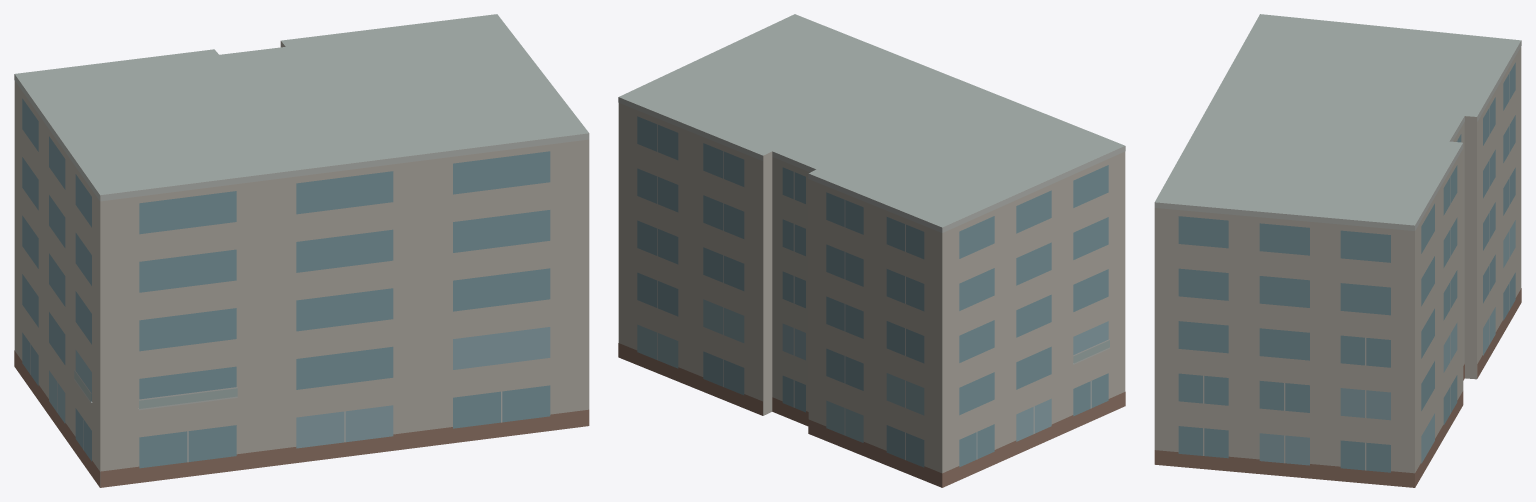
File: survey-upis-32660308.glb
The picture shows the model from 3 angles, left to right: view 1: azimuth 30°, elevation 25°; view 2: azimuth 150°, elevation 25°; view 3: azimuth 270°, elevation 25°; orthographic projection. The views are drawn at different scales.
Visible parts, largest first — view 1: survey-upis-32660308.tmp; view 2: survey-upis-32660308.tmp; view 3: survey-upis-32660308.tmp.
Boxes of the visible parts, x1,y1,x2,y2 form: survey-upis-32660308.tmp: [14, 14, 589, 487]; survey-upis-32660308.tmp: [618, 14, 1125, 487]; survey-upis-32660308.tmp: [1154, 14, 1521, 487].
Size of the model in its own units: 19.9 by 11.5 by 14.58.
